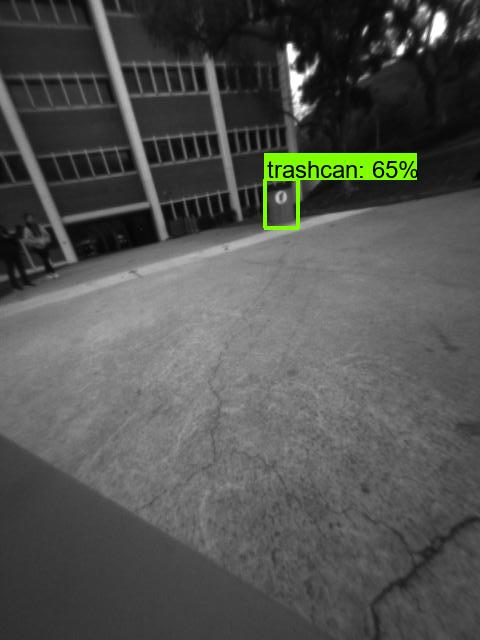trashcan: (262, 179, 300, 227)
